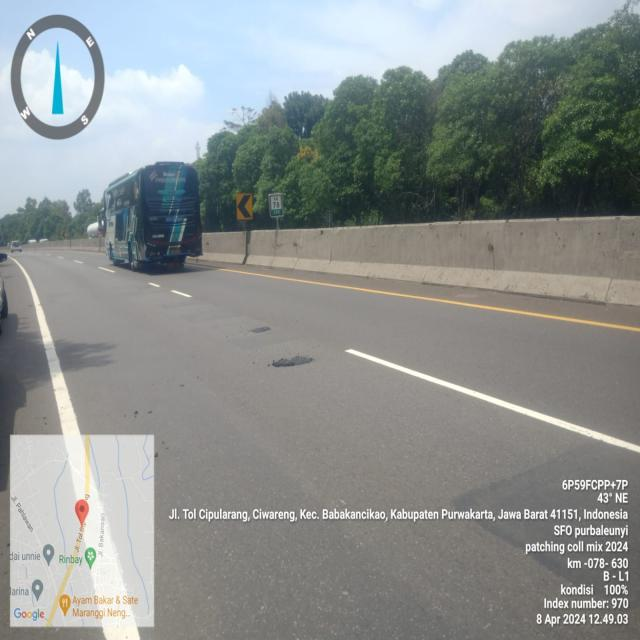Buraco: (270, 354, 316, 369), (248, 324, 274, 336)
